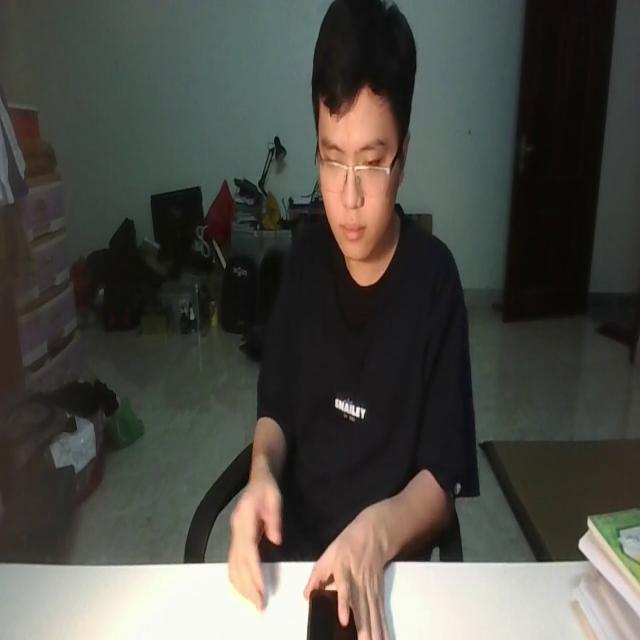phone: (306, 588, 356, 640)
student: (228, 0, 480, 639)
